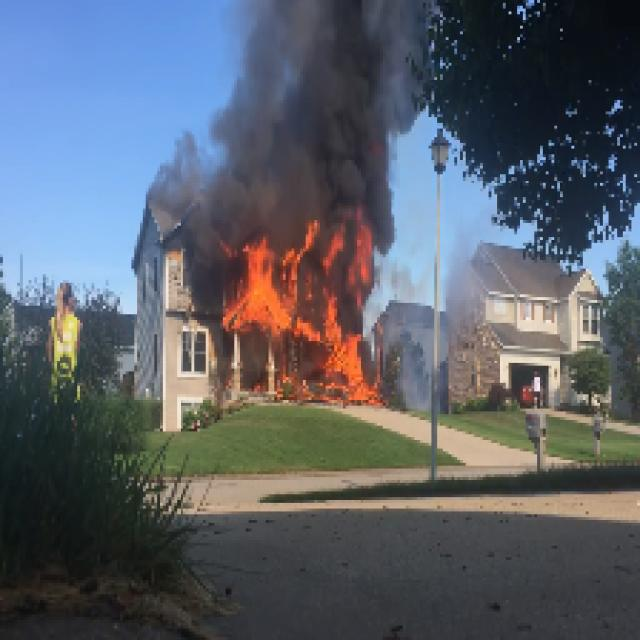fire: (232, 243, 386, 405)
smoke: (228, 3, 425, 197)
